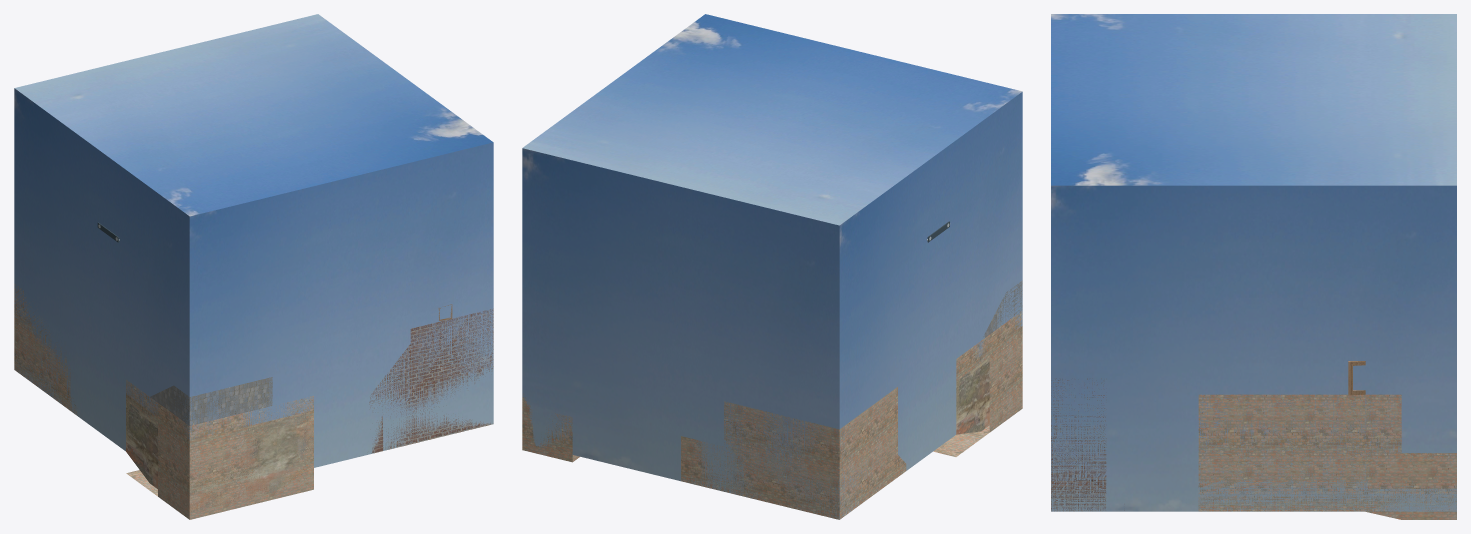
3 views of the same model, side by side, from view 1: azimuth 30°, elevation 25°; view 2: azimuth 150°, elevation 25°; view 3: azimuth 270°, elevation 25° (orthographic). The views are drawn at different scales.
Visible parts, largest first — view 1: clouds-49520, Brick2_1, Brick, Brick2_3, Brick2_5, Pavement; view 2: clouds-49520, Brick2_5, Brick2_1, Brick2_3, Brick2_4, Pavement; view 3: clouds-49520, Brick2_4, Brick.
Part boxes in pixels (left/top/right/bottom): clouds-49520: left=14, top=14, right=493, bottom=467; Brick2_1: left=126, top=379, right=313, bottom=519; Brick: left=369, top=308, right=493, bottom=453; Brick2_3: left=126, top=394, right=313, bottom=512; Brick2_5: left=14, top=284, right=77, bottom=415; Pavement: left=150, top=377, right=272, bottom=425; clouds-49520: left=522, top=14, right=1022, bottom=519; Brick2_5: left=681, top=387, right=906, bottom=519; Brick2_1: left=933, top=311, right=1022, bottom=456; Brick2_3: left=956, top=326, right=1022, bottom=434; Brick2_4: left=522, top=393, right=579, bottom=462; Pavement: left=983, top=280, right=1022, bottom=337; clouds-49520: left=1051, top=14, right=1456, bottom=511; Brick2_4: left=1198, top=394, right=1456, bottom=519; Brick: left=1051, top=378, right=1124, bottom=511.
Size of the model in its own units: 44.35 by 42.06 by 44.
